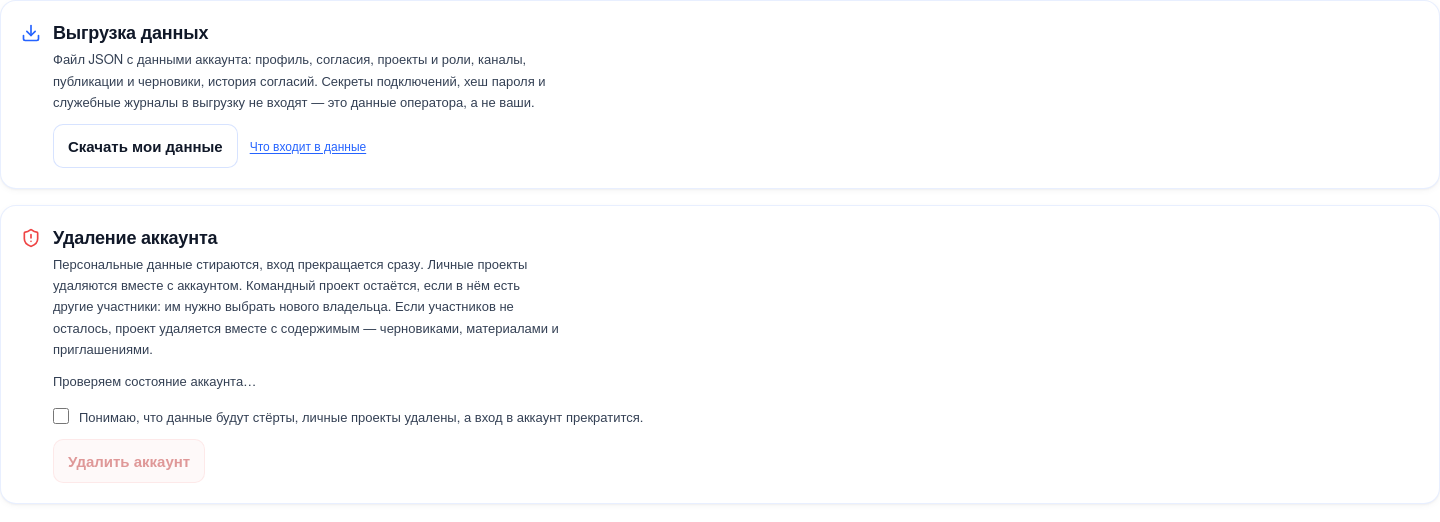
Test case: personal data settings section › downloads the export as a file
This screenshot has width=1440, height=522.
Click the button "Скачать мои данные": (145, 146) 53,124 -> 238,168
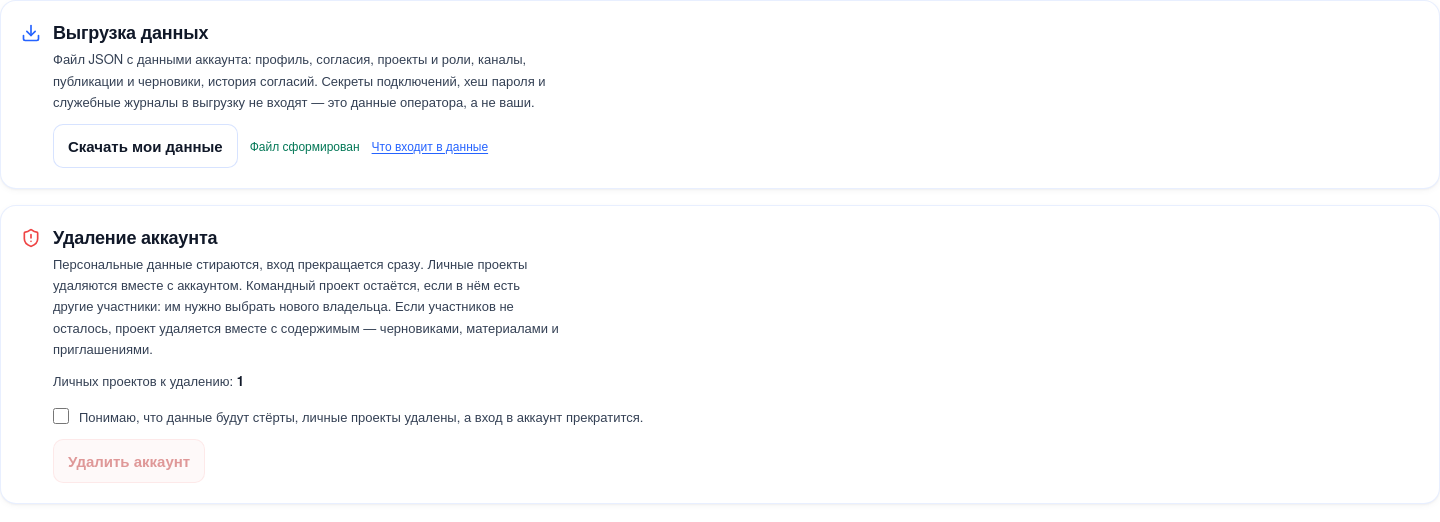
Result: the text "Файл сформирован" is shown at 250,137 -> 360,155
